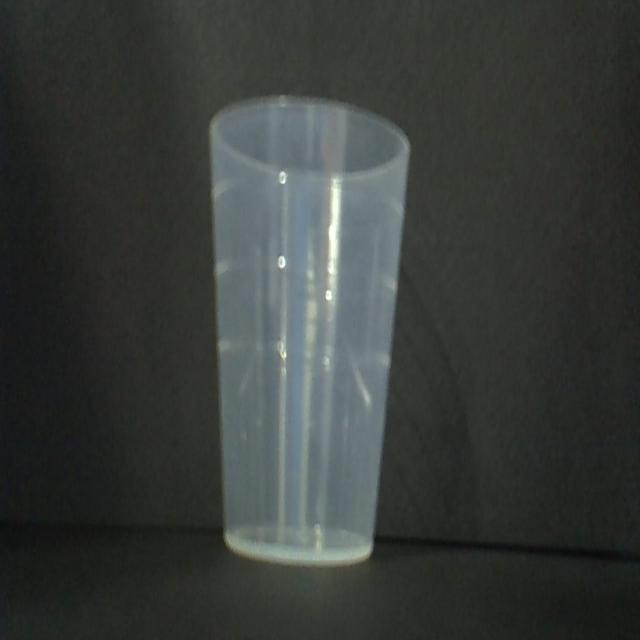cup: (208, 92, 412, 571)
